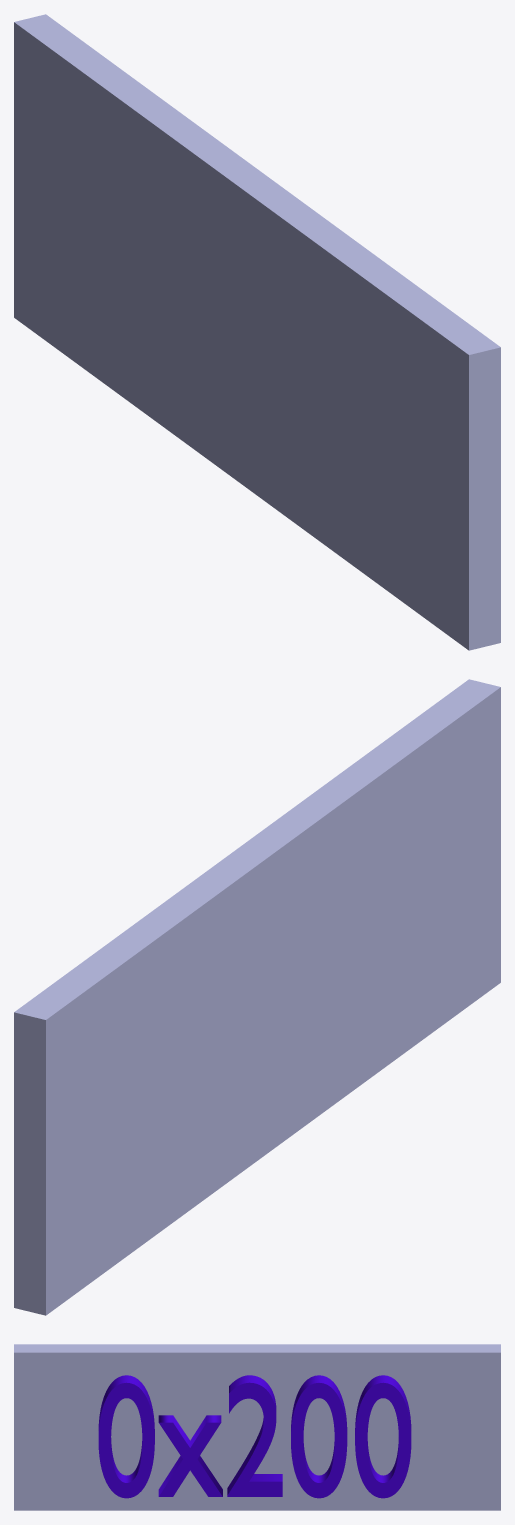
The picture shows the model from 3 angles, top to bottom: view 1: azimuth 30°, elevation 25°; view 2: azimuth 150°, elevation 25°; view 3: azimuth 270°, elevation 25°; orthographic projection. The views are drawn at different scales.
Visible parts, largest first — view 1: Cube; view 2: Cube; view 3: Cube, Text.
Part boxes in pixels (x1,y1,x2,y2): Cube: [14, 14, 500, 650]; Cube: [14, 679, 500, 1315]; Cube: [14, 1344, 500, 1510]; Text: [98, 1375, 411, 1498].
Size of the model in its own units: 2.65 by 12.33 by 34.39.
